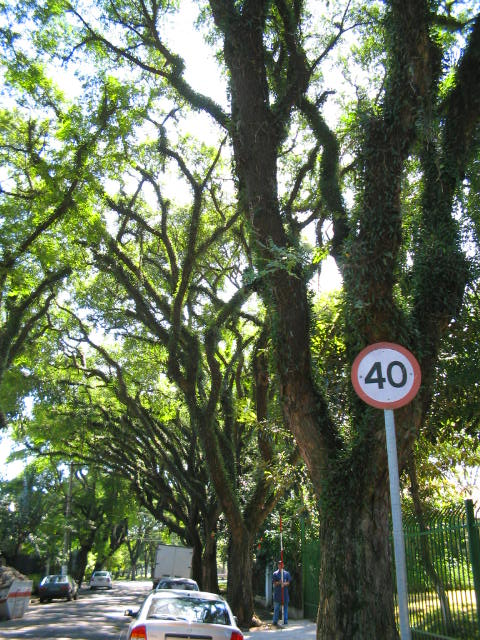stem: (295, 485, 406, 635), (223, 542, 262, 630)
stick: (275, 515, 290, 627)
tree: (204, 1, 480, 635), (161, 139, 303, 624)
